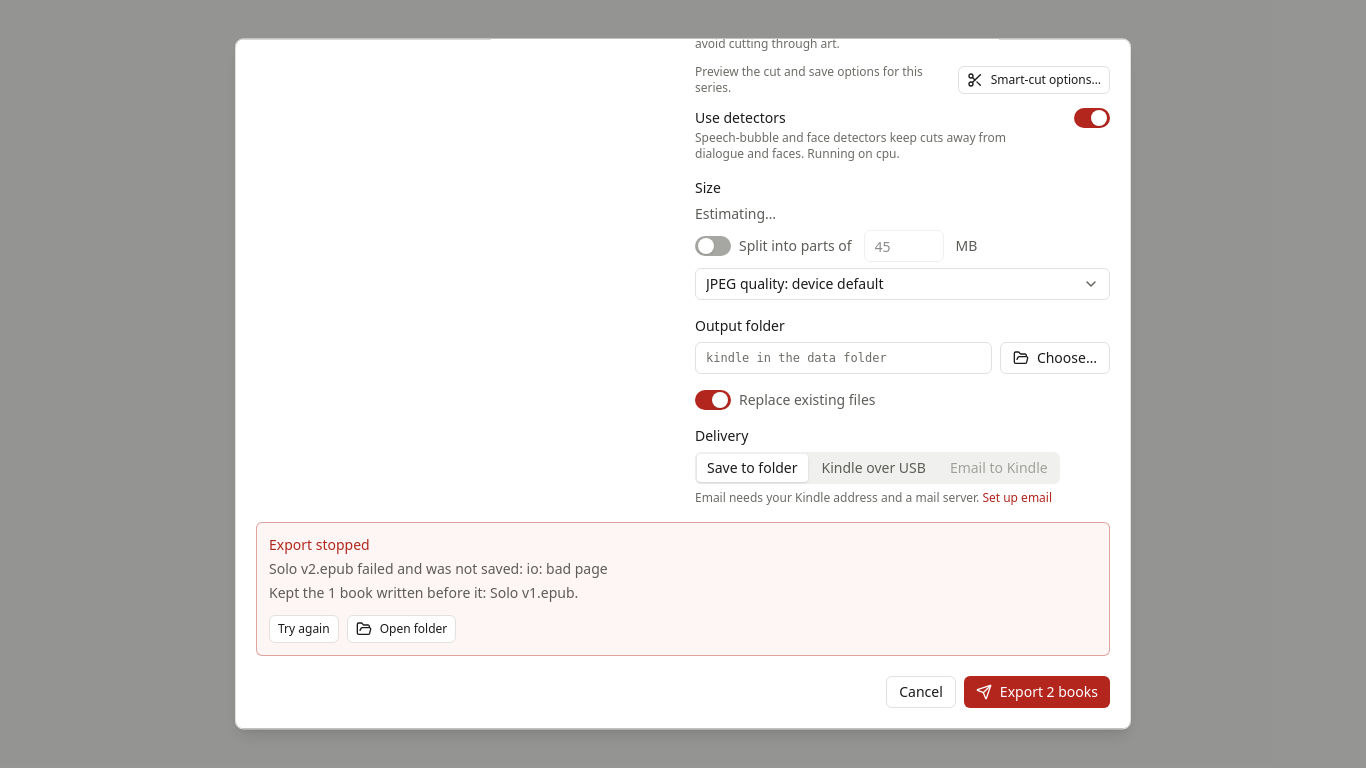
Test: Try again after a stopped export (#337) › dialog (replace true): Try again writes only the unwritten book and says the kept one is there
The image size is (1366, 768).
Earlier steps of the test are not shown.
(page scrolled)
Expected: the text "Export stopped" is shown, x1=269 y1=535 x2=370 y2=554
Click the button "Try again": (304, 629) x1=269 y1=615 x2=339 y2=643
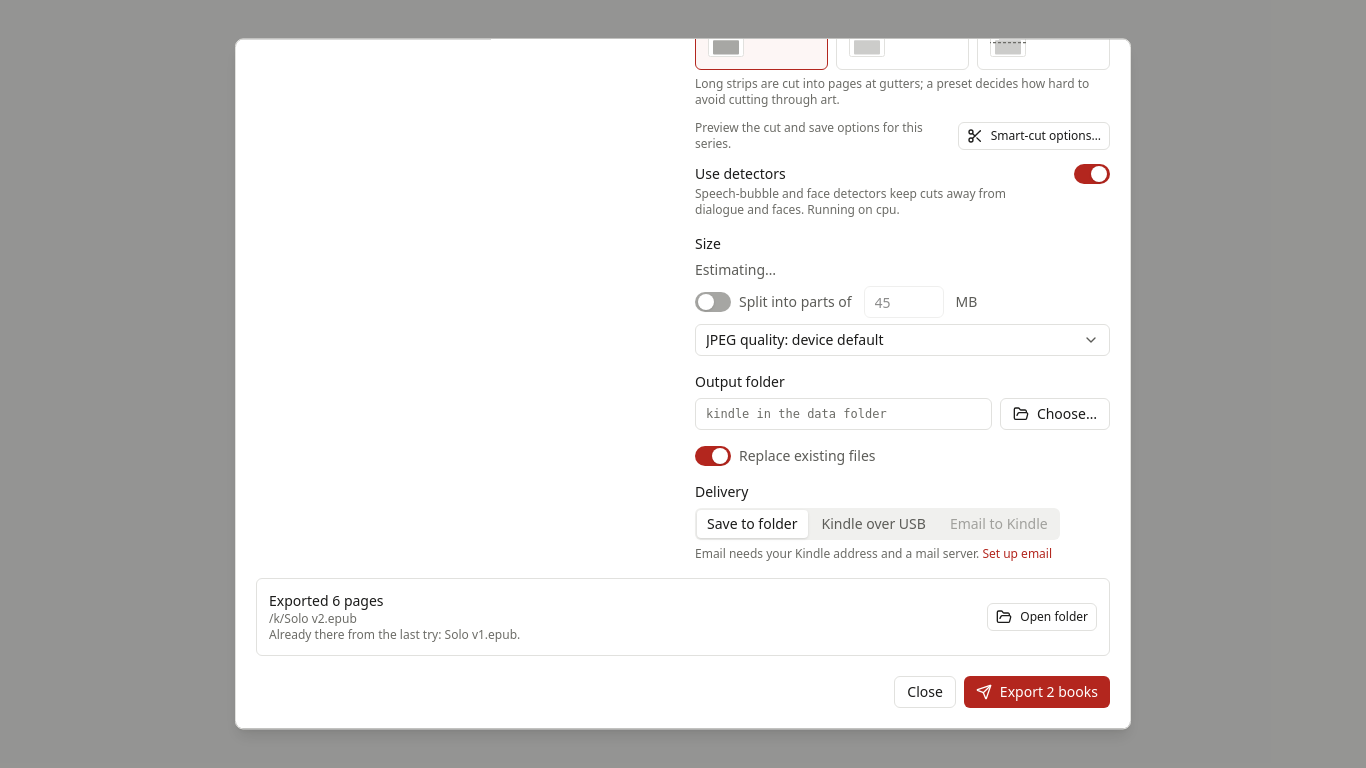
Result: the text "Already there from the last try: Solo v1.epub." is shown at x1=269 y1=627 x2=520 y2=643
